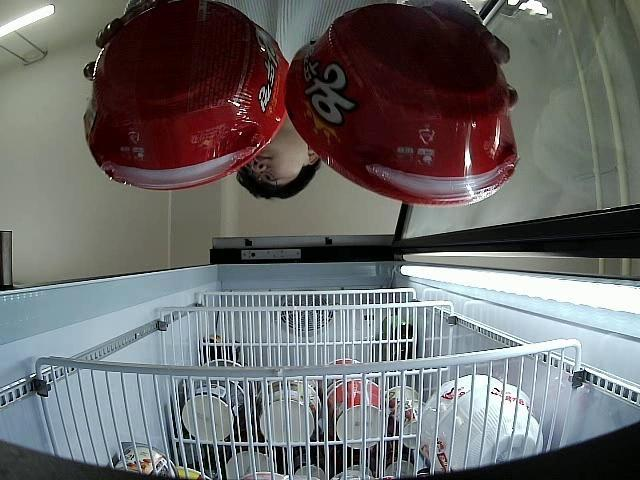10_wangTtukkeong: (281, 6, 520, 207), (82, 0, 287, 191)
